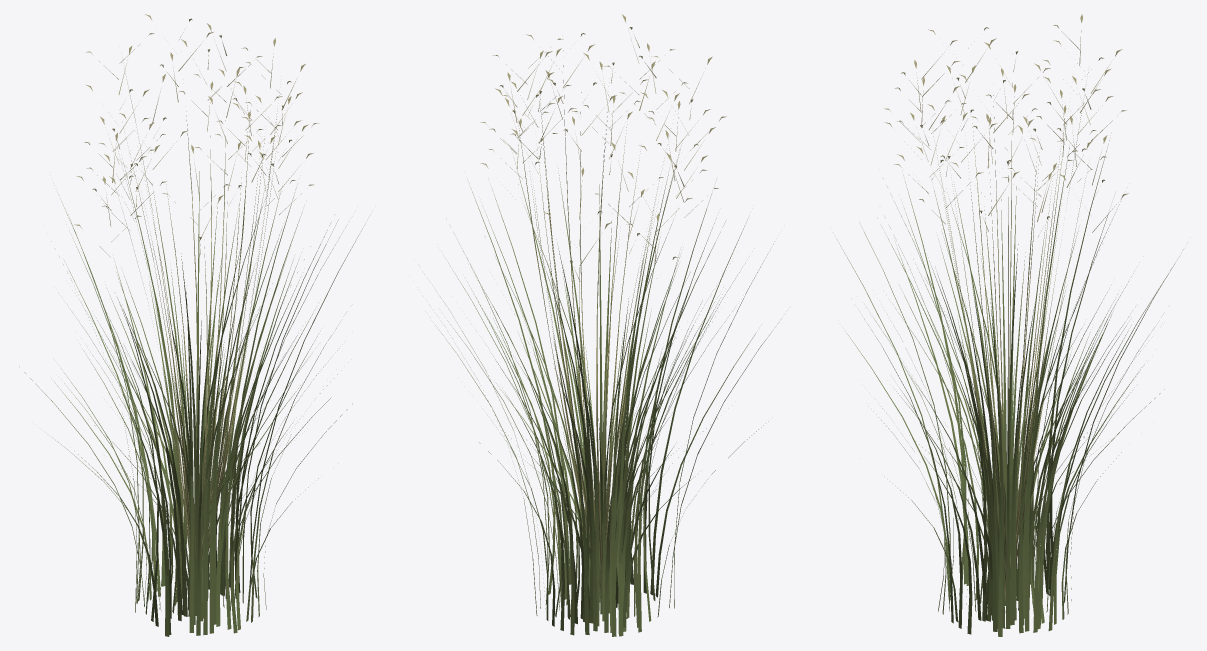
Rendered from upright_grass_lod1.glb.
The picture shows the model from 3 angles, left to right: view 1: azimuth 30°, elevation 25°; view 2: azimuth 150°, elevation 25°; view 3: azimuth 270°, elevation 25°; orthographic projection.
Parts seen in each view (by area): view 1: UprightBladesAndPanicles; view 2: UprightBladesAndPanicles; view 3: UprightBladesAndPanicles.
Boxes of the visible parts, bbox=[...] form: UprightBladesAndPanicles: bbox=[19, 14, 364, 636]; UprightBladesAndPanicles: bbox=[435, 14, 773, 636]; UprightBladesAndPanicles: bbox=[837, 14, 1183, 636].
Bounding box in the file's own units: 0.5042 × 0.8784 × 0.5051.
